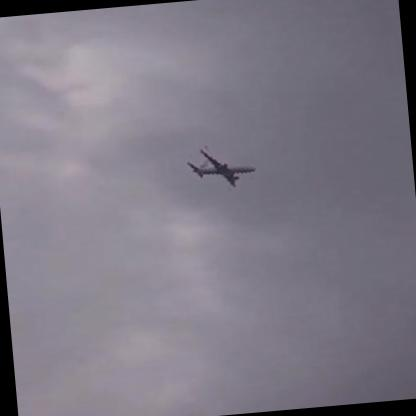plane: (179, 136, 262, 203)
